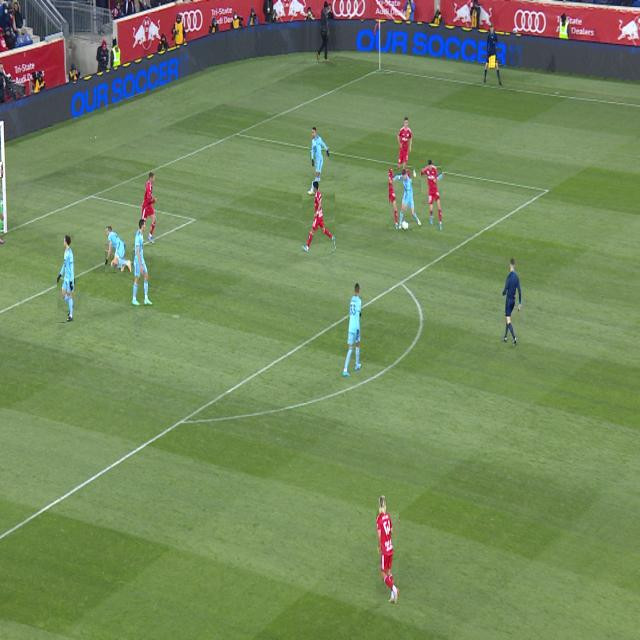football: (403, 221, 407, 230)
goalkeeper: (0, 192, 4, 235), (0, 163, 3, 177)
player: (377, 495, 399, 604), (303, 182, 335, 252), (413, 161, 442, 231), (390, 169, 421, 229), (132, 219, 153, 305), (343, 283, 361, 376), (58, 236, 74, 322), (105, 226, 132, 272), (311, 128, 329, 195), (141, 172, 157, 244), (395, 117, 412, 182)
referee: (502, 258, 521, 346)
